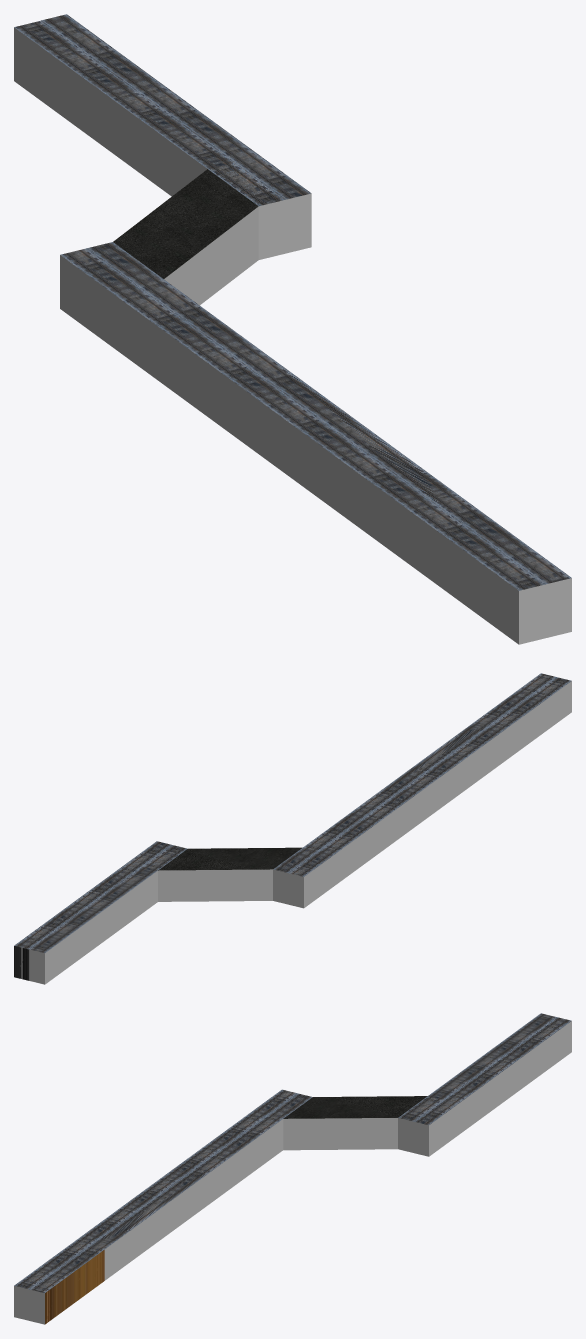
File: someShit17.obj
The picture shows the model from 3 angles, top to bottom: view 1: azimuth 30°, elevation 25°; view 2: azimuth 150°, elevation 25°; view 3: azimuth 330°, elevation 25°; orthographic projection. The views are drawn at different scales.
Parts seen in each view (by area): view 1: Plane.017_Plane.018; view 2: Plane.017_Plane.018; view 3: Plane.017_Plane.018.
Part boxes in pixels (x1,y1,x2,y2): Plane.017_Plane.018: [14, 14, 571, 644]; Plane.017_Plane.018: [14, 673, 571, 984]; Plane.017_Plane.018: [14, 1013, 571, 1324].
Size of the model in its own units: 285 by 58.26 by 1380.
